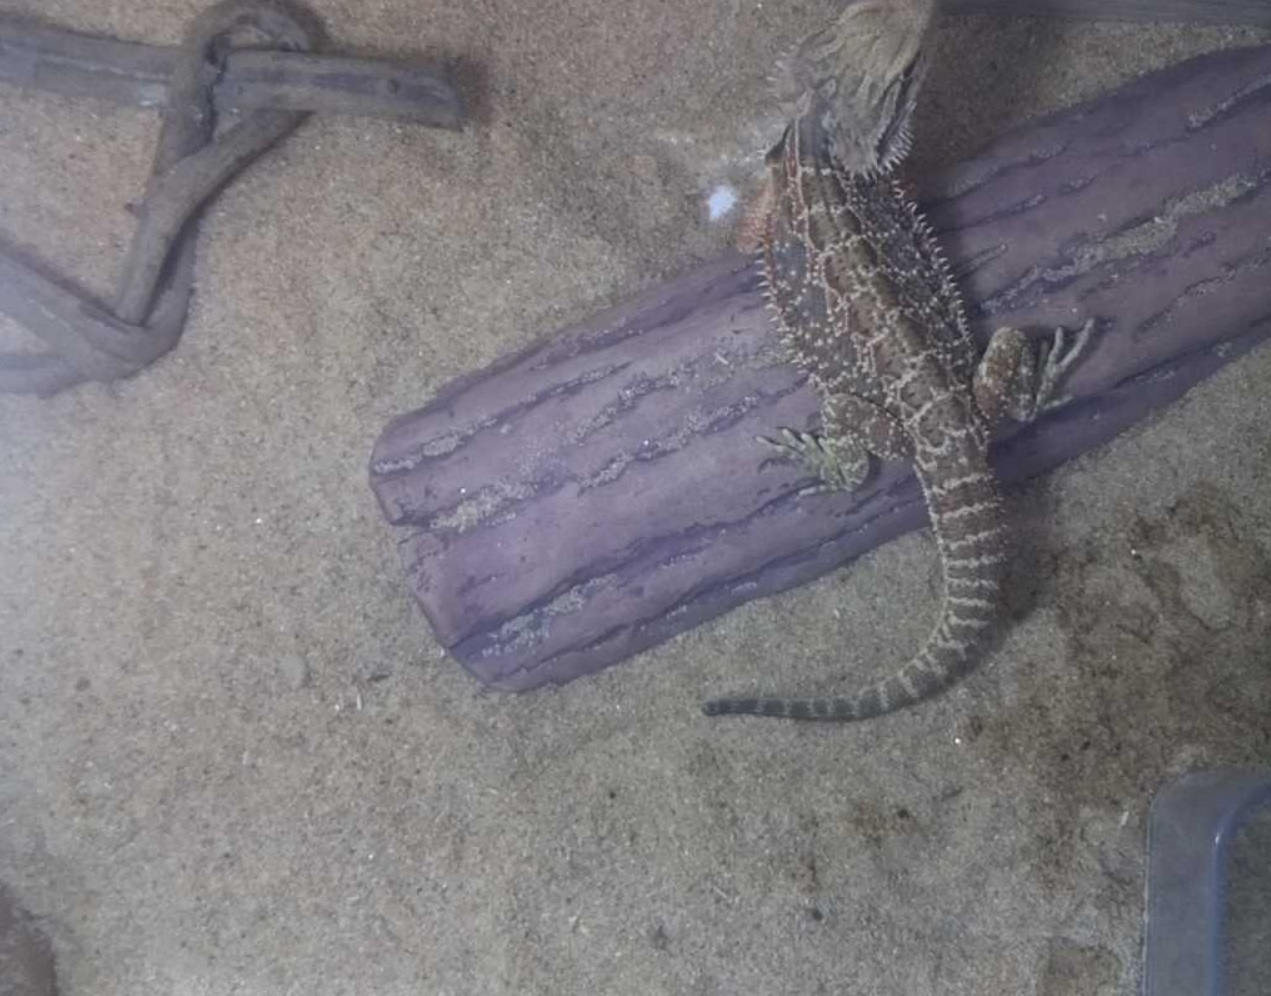bearded: (698, 8, 1107, 730)
